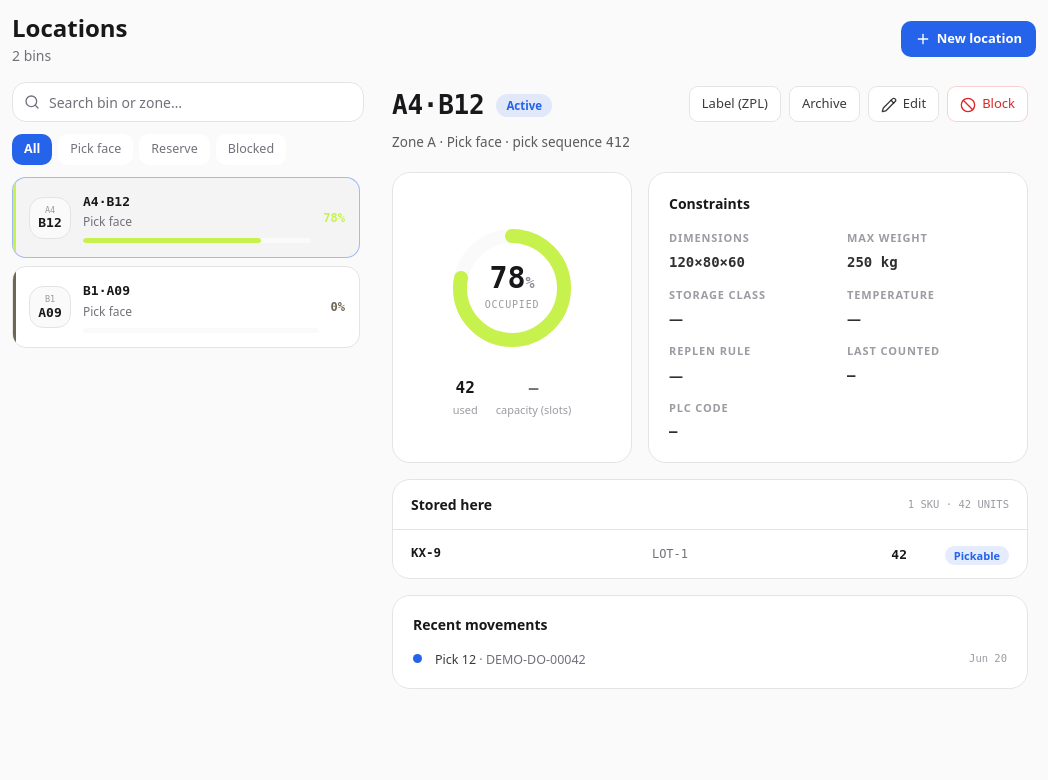
Test: LocationsPage — Task 10 edit mode › Edit button swaps the detail pane into the edit form
The image size is (1048, 780).
expect the heading "Constraints" is shown: met, box [669, 194, 750, 213]
Click the button with test id "location-edit-btn".
click(904, 104)  # box [868, 86, 939, 122]
(page scrolled)
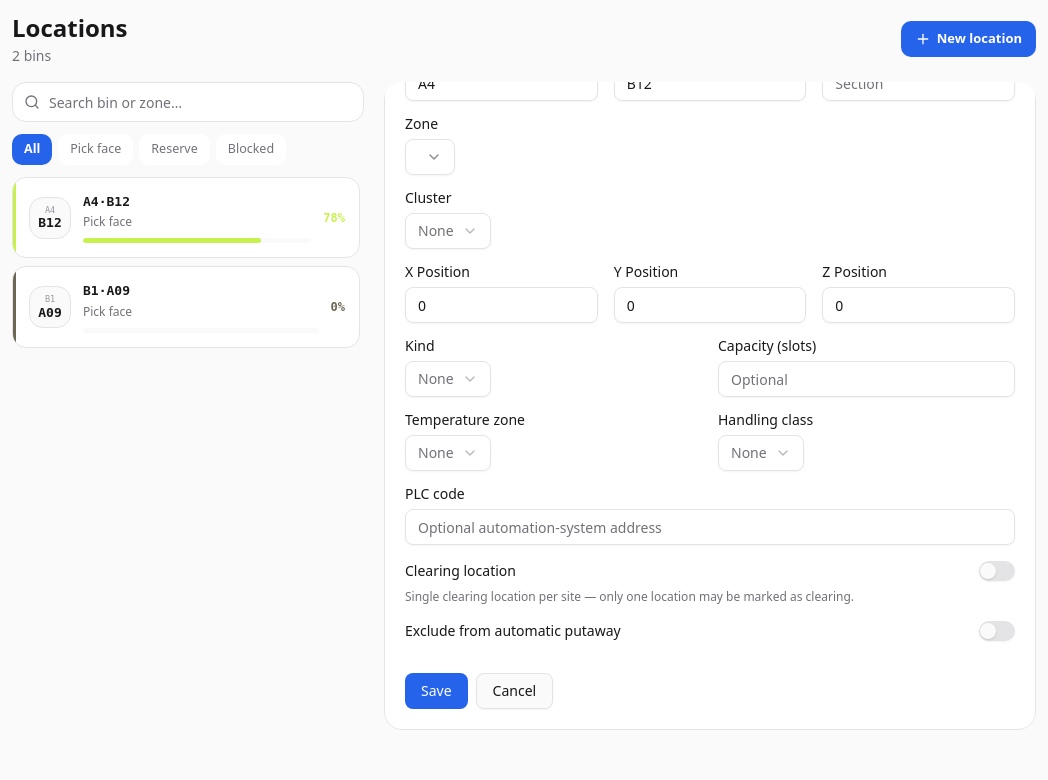
expect the heading "Constraints" is gone: met
expect the button "Save" is shown: met, box [405, 673, 468, 709]
